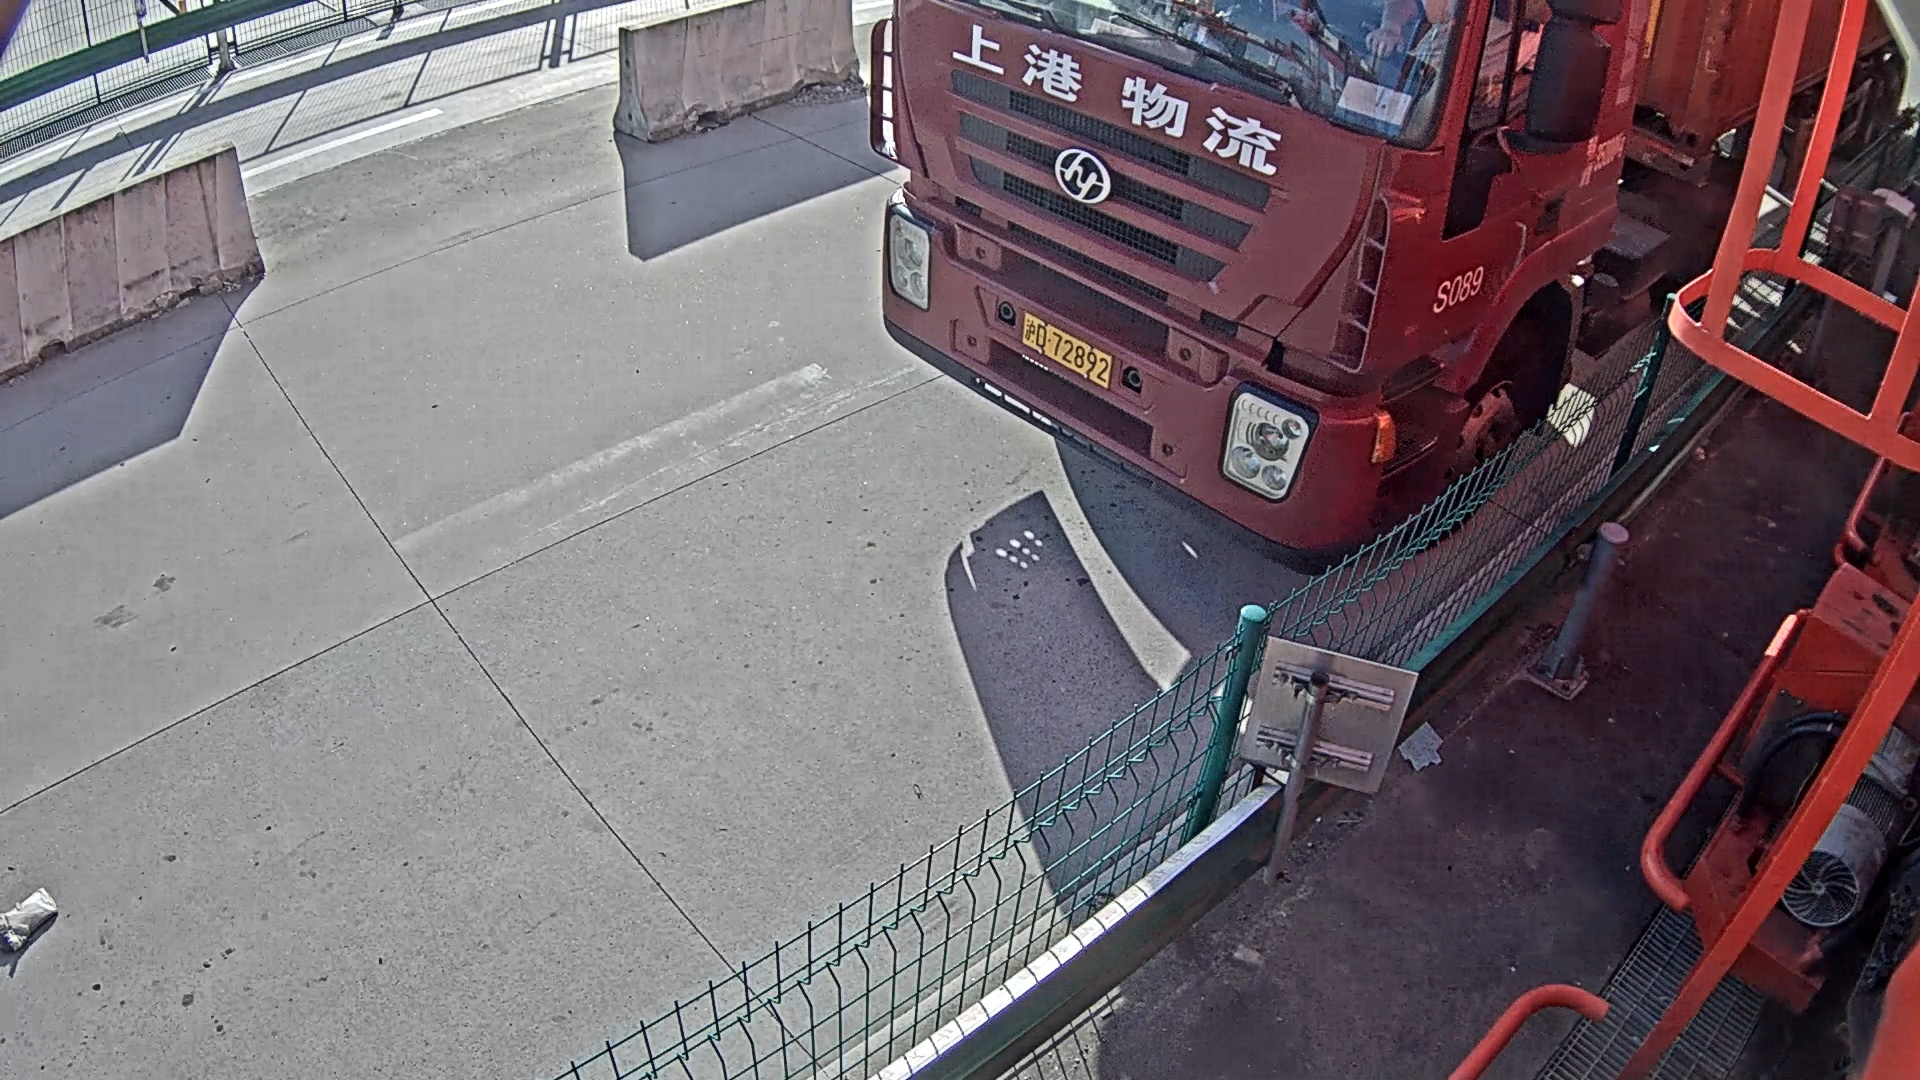head: (872, 1, 1631, 542)
plate: (1017, 314, 1111, 382)
